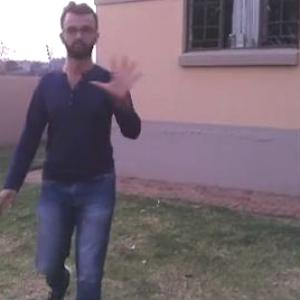follow_hand: (87, 50, 146, 100)
